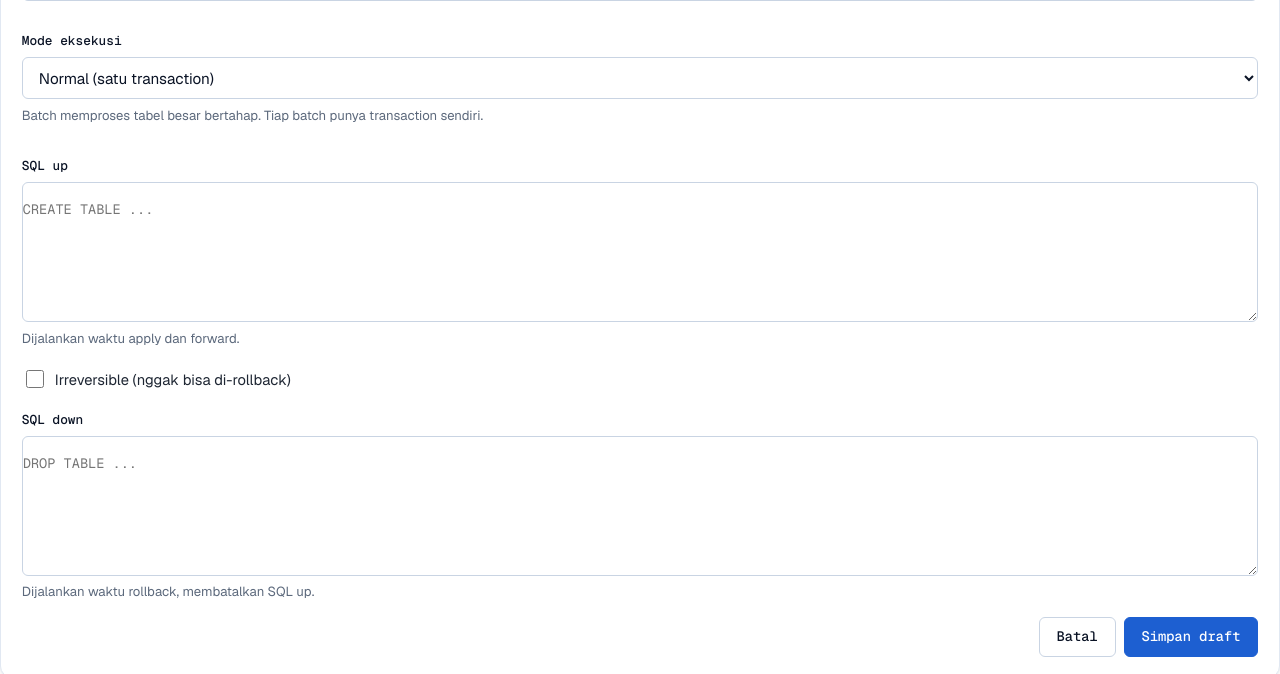
Scenario: halaman migration › error field yang nggak ada di form tetap ditampilkan
(page scrolled)
What coordinates should you click on to do the following:
click the button "Simpan draft"
I would click on:
 (1191, 637)
Its box is 1124,617 -> 1258,657.
(page scrolled)
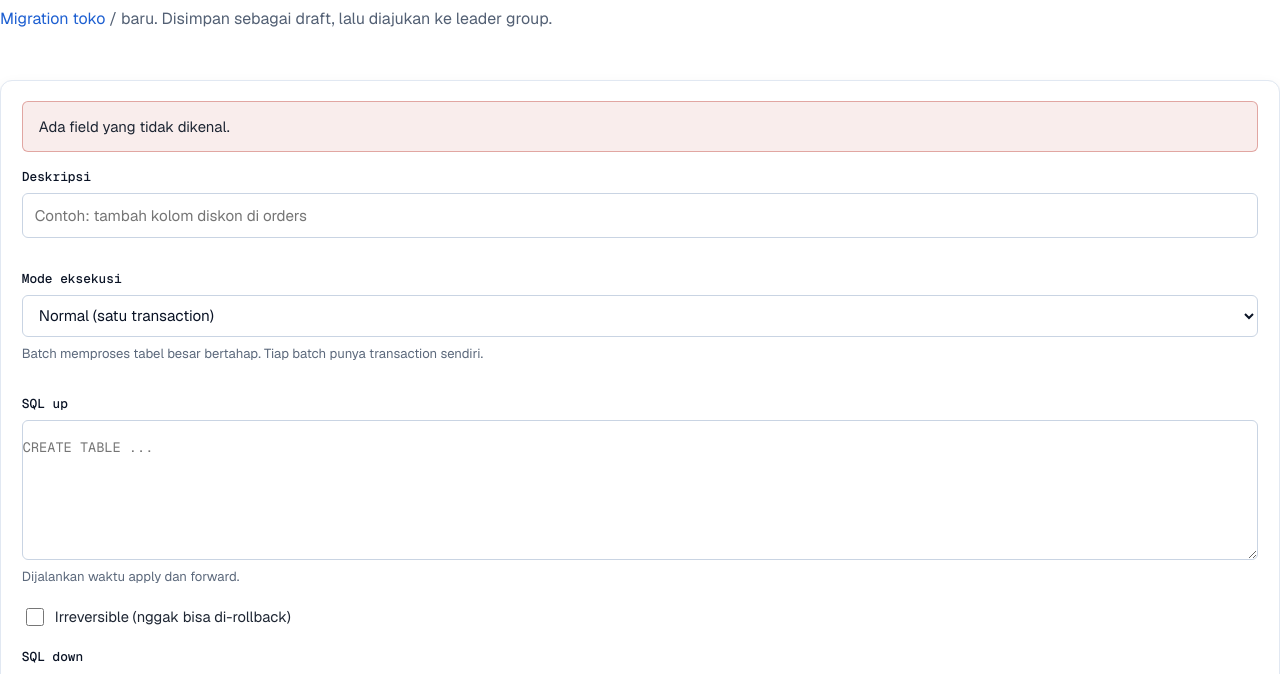
expect the text "Ada field yang tidak dikenal." is shown: met, box 39,115 -> 230,139
